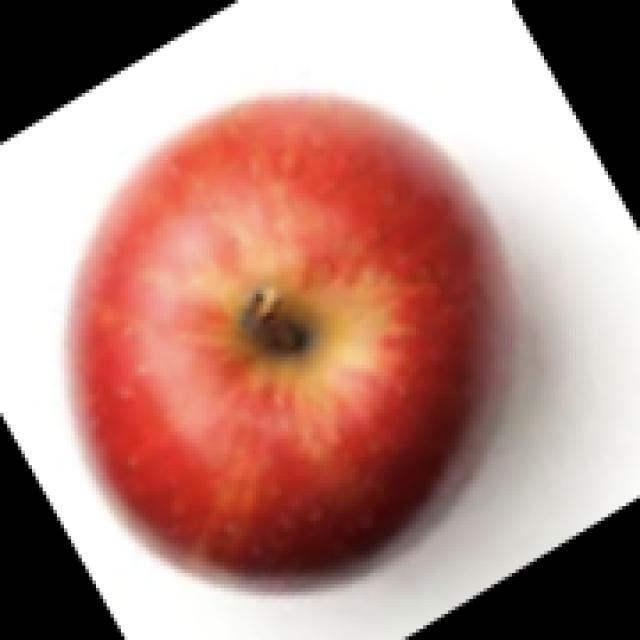Fresh Apple: (75, 103, 487, 575)
